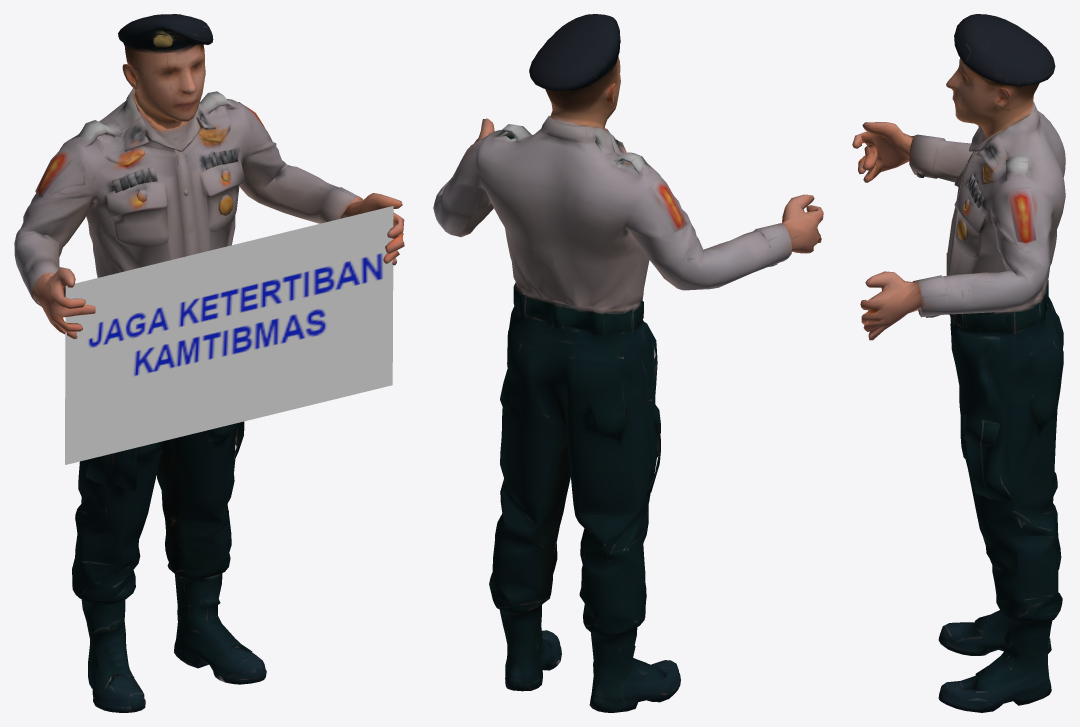
The model's file is polisi_spanduk_idle.glb.
The picture shows the model from 3 angles, left to right: view 1: azimuth 30°, elevation 25°; view 2: azimuth 150°, elevation 25°; view 3: azimuth 270°, elevation 25°; orthographic projection. The views are drawn at different scales.
Visible parts, largest first — view 1: tripo_node_0de06b4d; view 2: tripo_node_0de06b4d; view 3: tripo_node_0de06b4d.
Part boxes in pixels (bbox=[...]): tripo_node_0de06b4d: bbox=[14, 14, 404, 712]; tripo_node_0de06b4d: bbox=[433, 14, 823, 712]; tripo_node_0de06b4d: bbox=[852, 14, 1065, 712].
Size of the model in its own units: 54.54 by 100 by 29.67.
2 materials, 2 textured.
